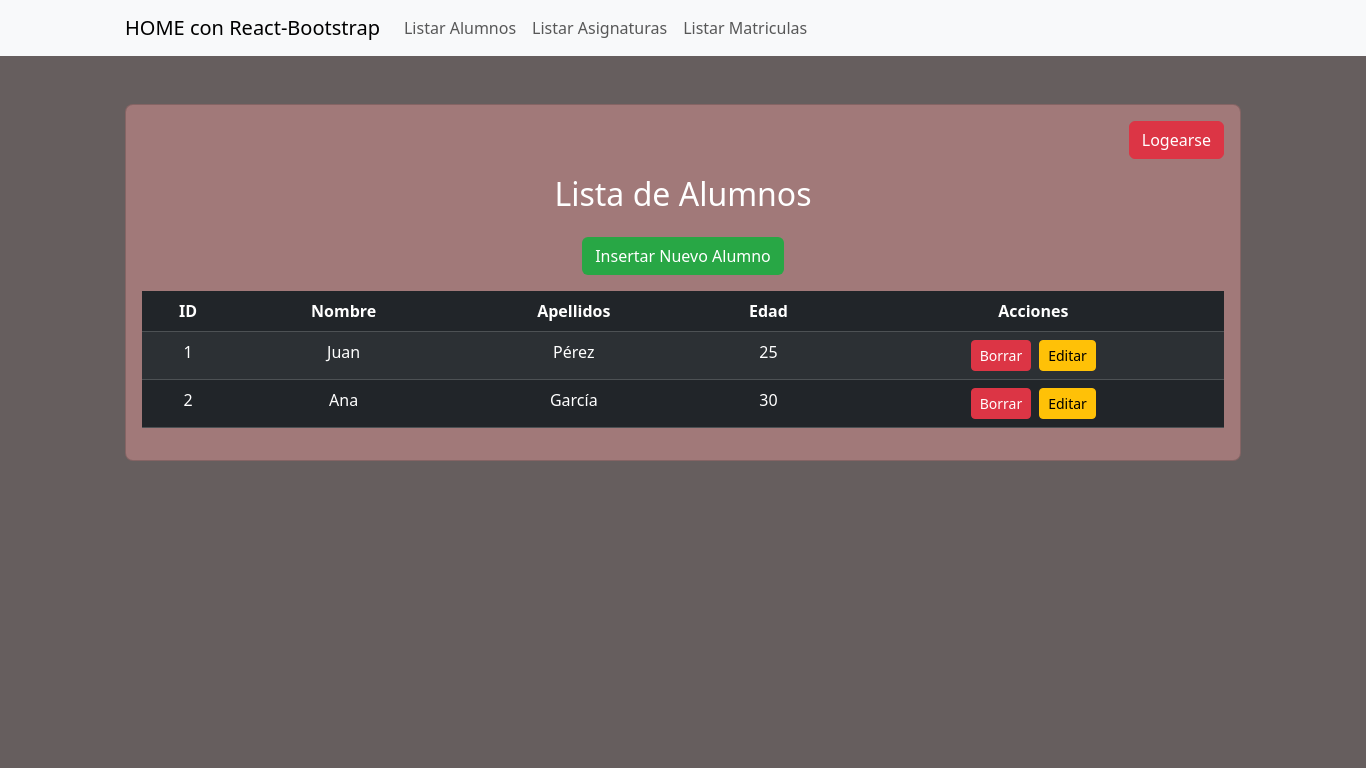
it: Personas › abre el formulario de inserción al pulsar el botón
The width and height of the screenshot is (1366, 768).
Click the button "Insertar Nuevo Alumno" at (683, 256), box x1=582 y1=237 x2=784 y2=275
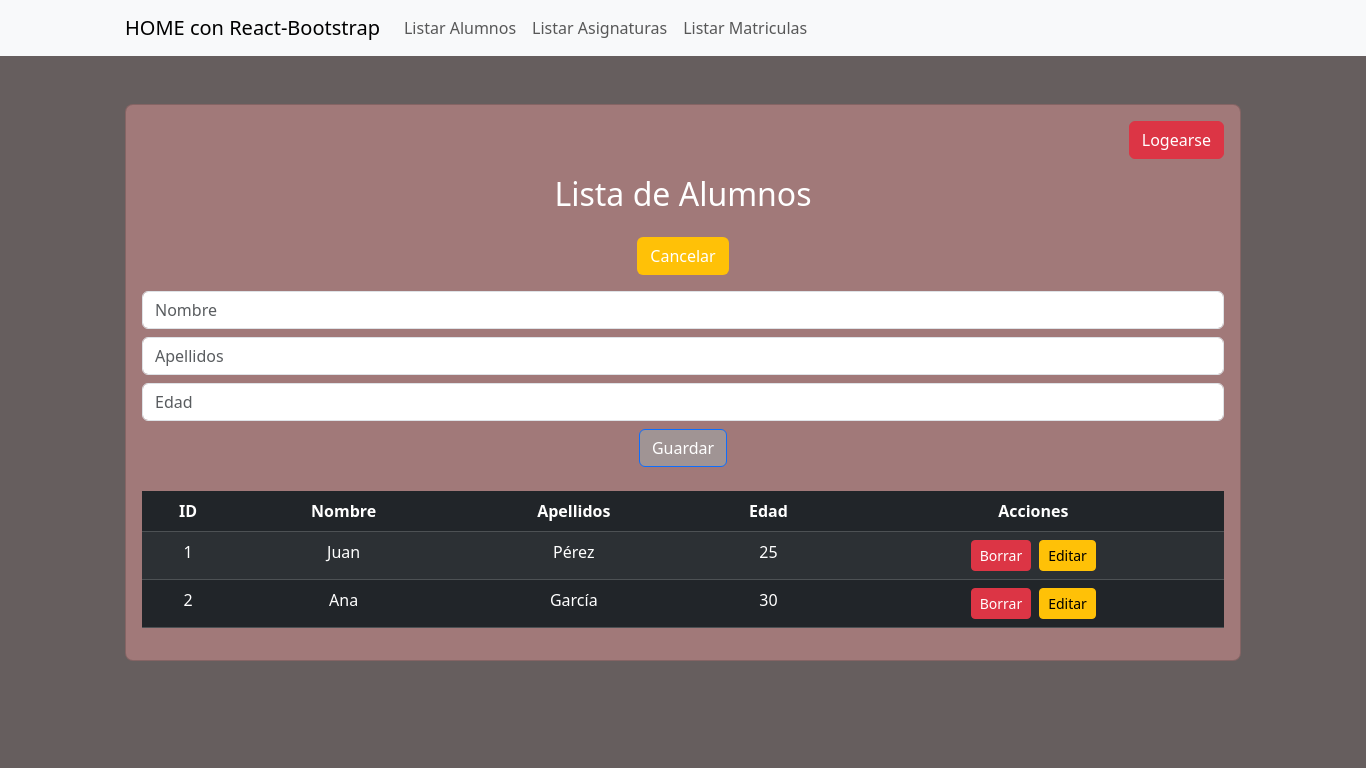
Expected: the field named "nombre" is shown, x1=142 y1=291 x2=1224 y2=329
Expected: the field named "apellidos" is shown, x1=142 y1=337 x2=1224 y2=375
Expected: the number field named "edad" is shown, x1=142 y1=383 x2=1224 y2=421
